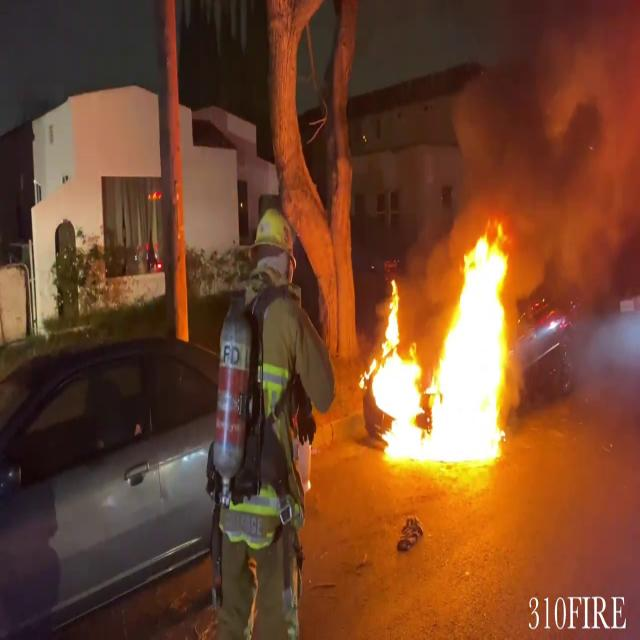Fire: (361, 216, 523, 476)
Smoke: (428, 1, 640, 277)
